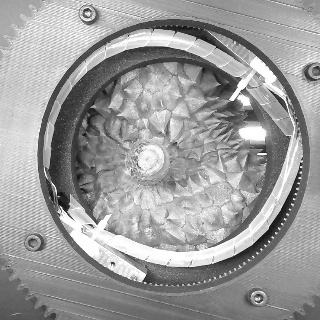base: (121, 141, 171, 188)
end: (137, 144, 165, 173)
